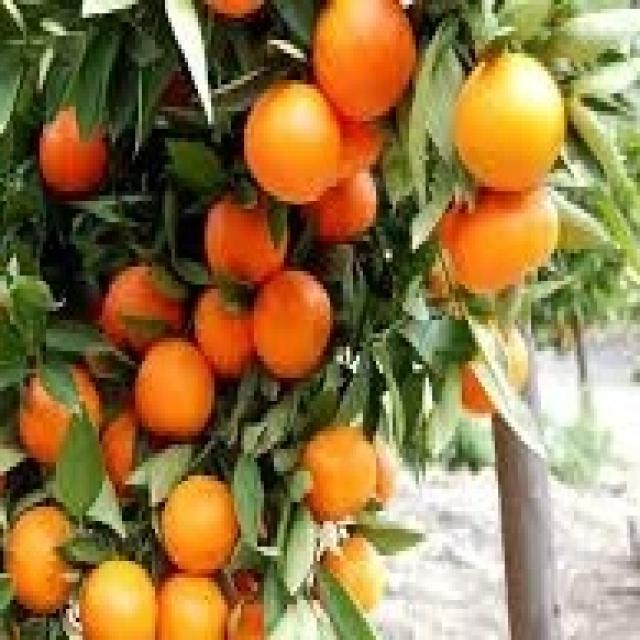Orange: (442, 40, 571, 200), (428, 151, 568, 289), (235, 58, 346, 209), (191, 178, 297, 312), (310, 6, 420, 118), (92, 249, 192, 369), (7, 342, 102, 462), (20, 89, 119, 204), (442, 307, 538, 422), (238, 262, 336, 374), (145, 467, 248, 569), (128, 320, 212, 444), (294, 414, 386, 524), (6, 506, 90, 619), (304, 524, 392, 622), (188, 276, 267, 382), (138, 551, 234, 636), (69, 551, 162, 636)
